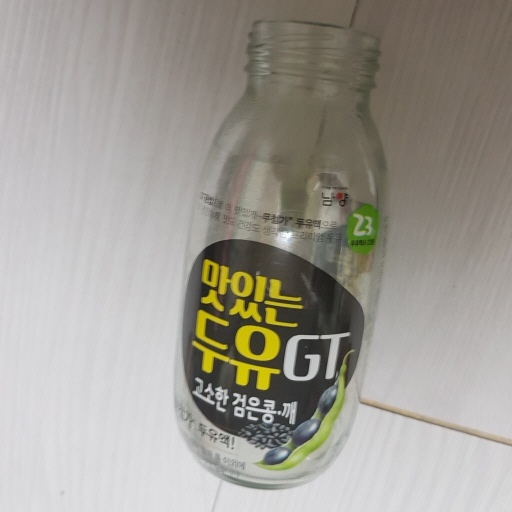Glass_4: (162, 16, 398, 489)
